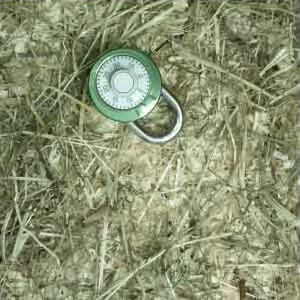lock: (85, 46, 185, 146)
